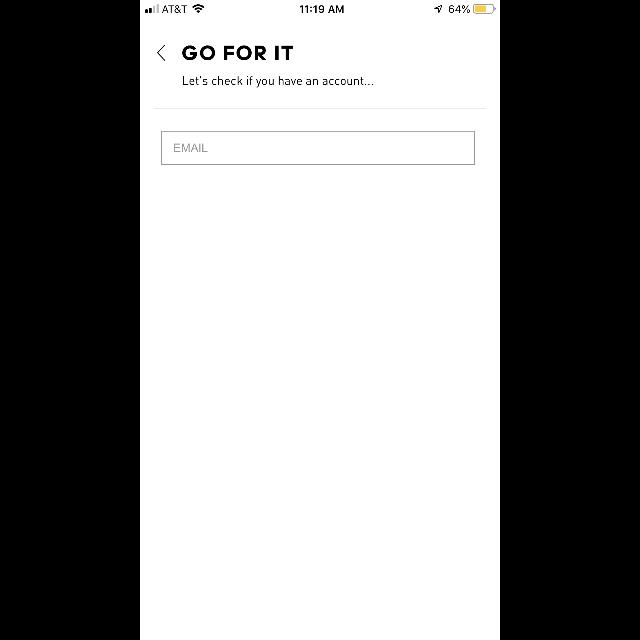icon: (157, 45, 165, 61)
input: (162, 131, 474, 165)
text: (183, 76, 373, 88), (182, 46, 294, 60), (175, 144, 208, 152)
uppertaskbar: (140, 0, 500, 14)
